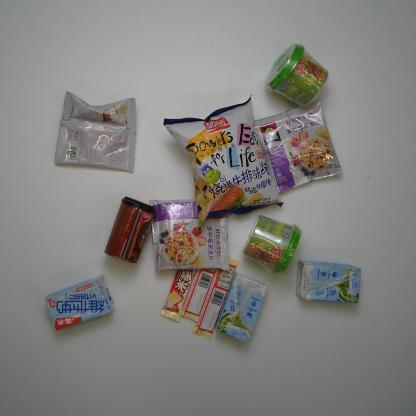Canned Food: (104, 195, 155, 264)
Chocolate: (192, 253, 242, 341), (180, 245, 224, 323), (161, 240, 202, 323)
Instant Drink: (250, 100, 344, 193), (52, 88, 139, 176), (149, 197, 230, 272), (263, 41, 331, 108), (240, 212, 304, 276)
Milk: (42, 272, 117, 332), (216, 274, 271, 343), (296, 260, 363, 305)
Puffed Food: (162, 92, 285, 234)
